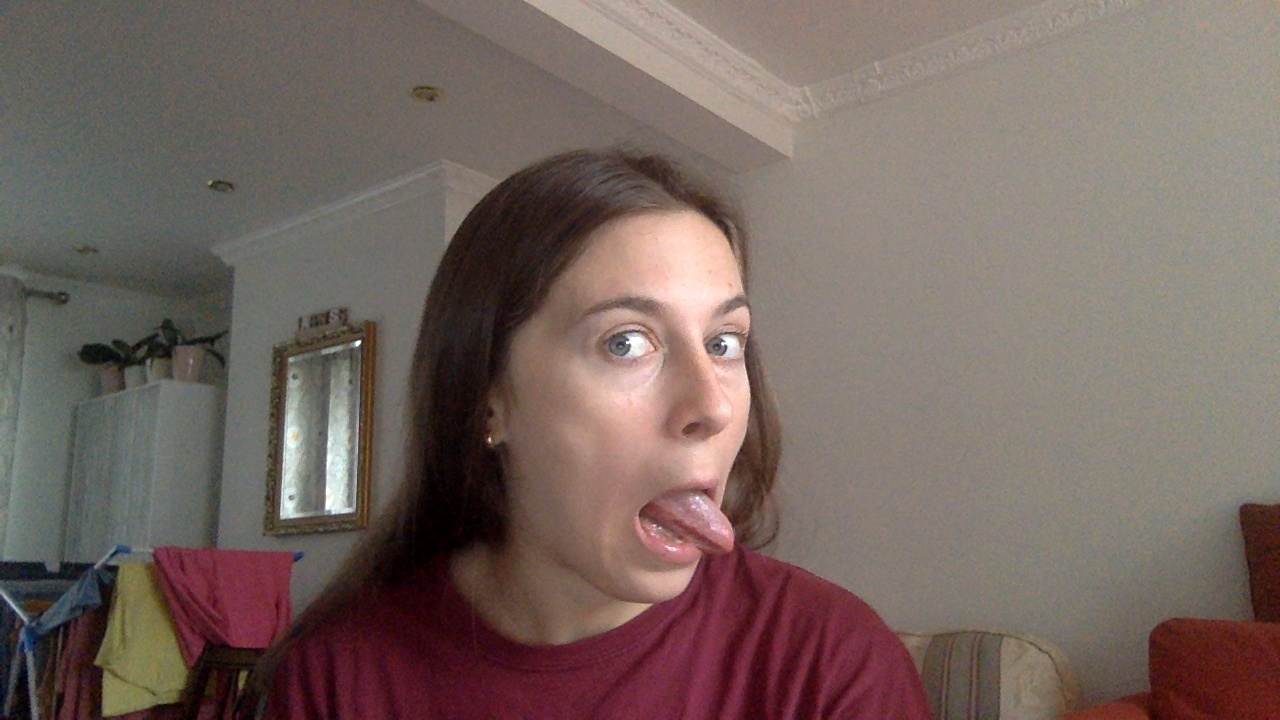tongue: (618, 461, 739, 574)
